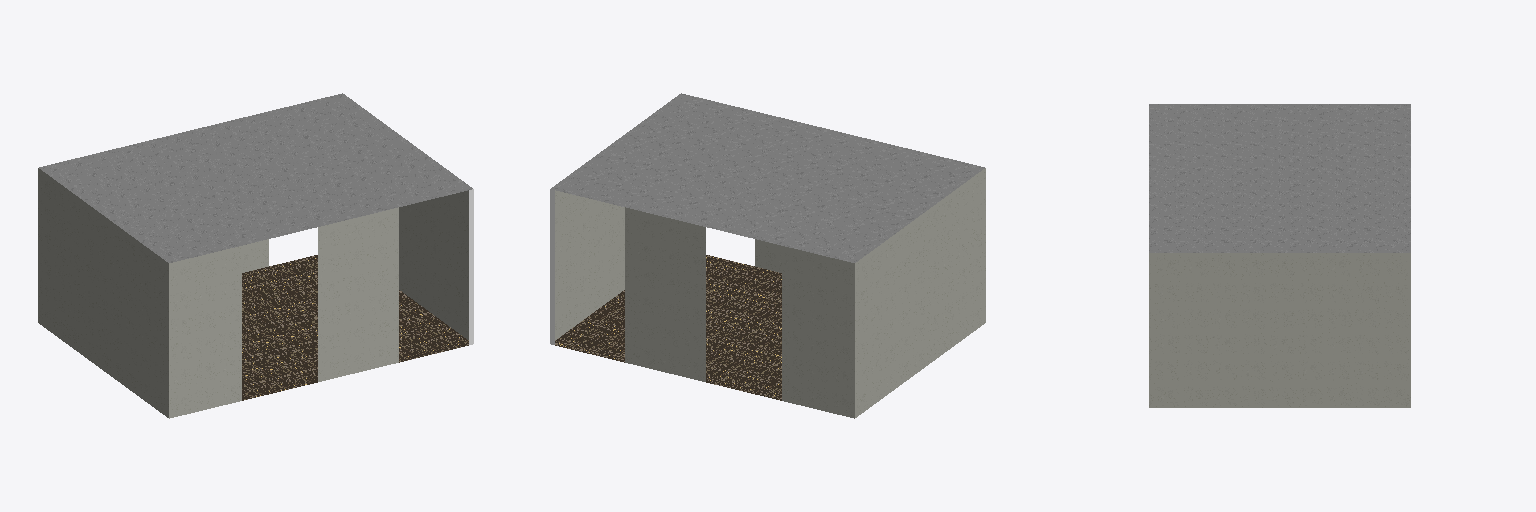
3 views of the same model, side by side, from view 1: azimuth 30°, elevation 25°; view 2: azimuth 150°, elevation 25°; view 3: azimuth 270°, elevation 25° (orthographic).
Parts seen in each view (by area): view 1: office; view 2: office; view 3: office.
Part boxes in pixels (left/top/right/bottom): office: left=38, top=93, right=473, bottom=418; office: left=550, top=93, right=985, bottom=418; office: left=1149, top=104, right=1410, bottom=407.
Size of the model in its own units: 12.33 by 6 by 9.17.
4 materials, 3 textured.